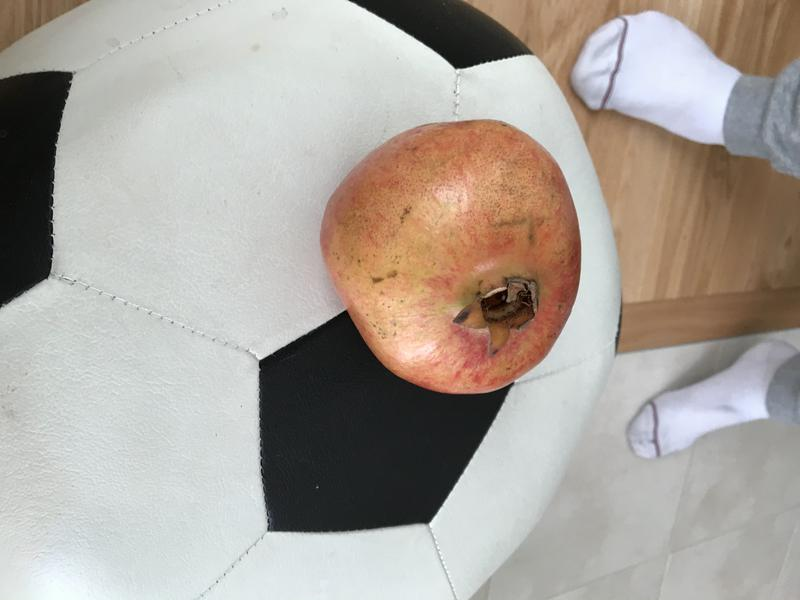pomegranate: (304, 104, 592, 411)
